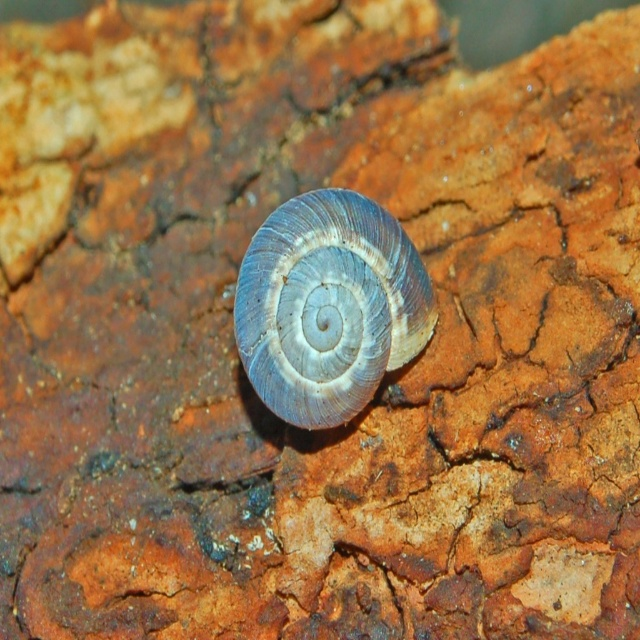Snail: (229, 187, 444, 451)
